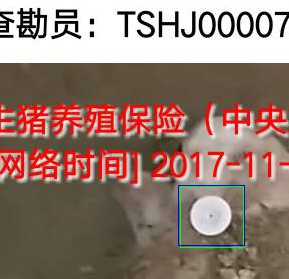text: (180, 186, 243, 247)
